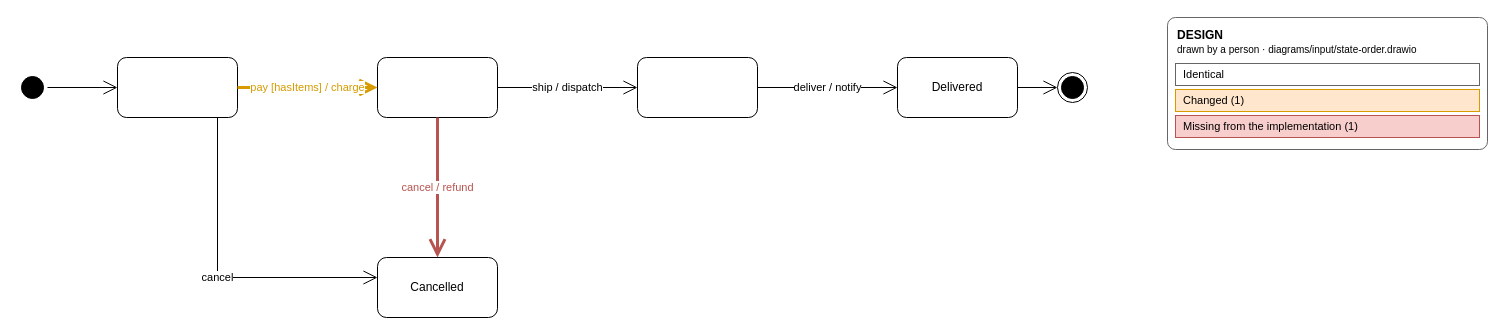
This 1505x335 diagram has some shape labels left out. The centre of each missing label's shape, as x and y in pixels:
"Created" goes at point 177,87.
"Paid" goes at point 437,87.
"Shipped" goes at point 697,87.
